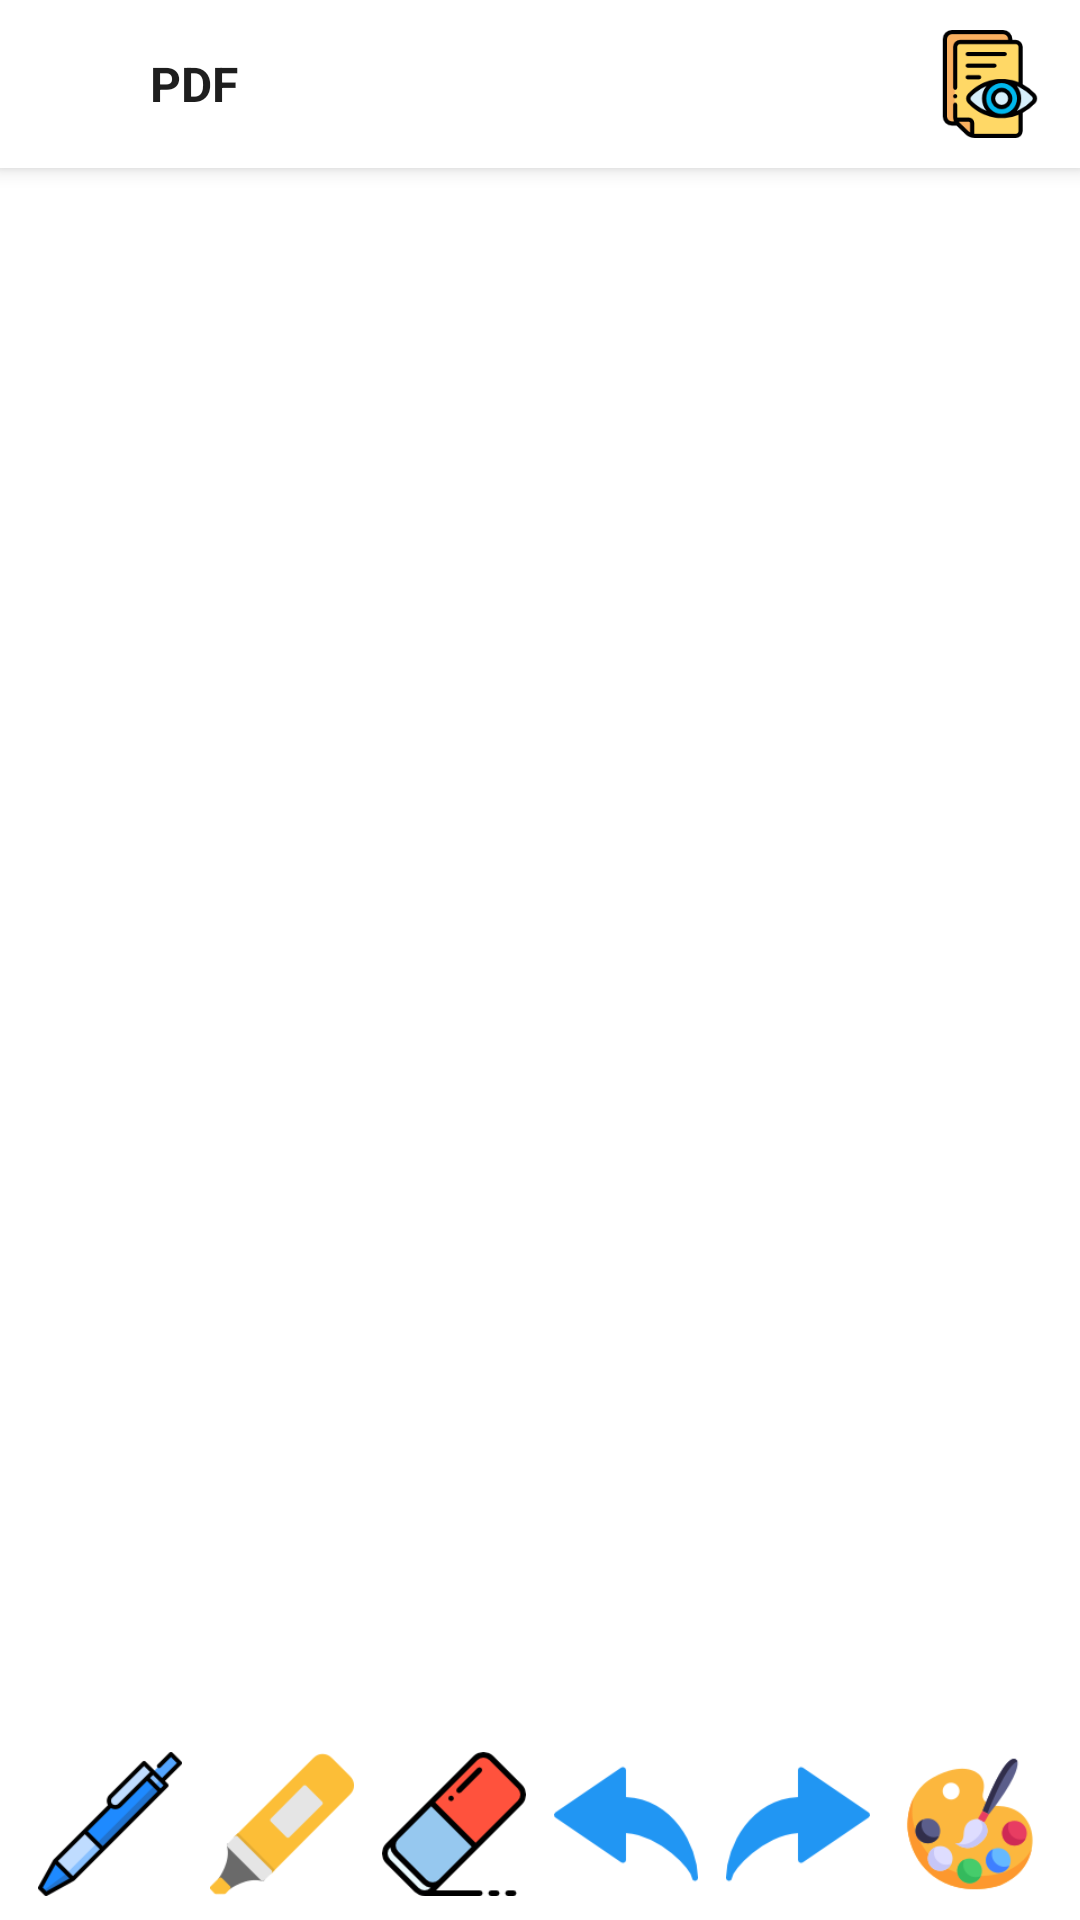

Point at icon controls on the screen. Image size 1080 × 1920, points as (x=x, y=y).
eraser: (x=454, y=1824)
marker: (x=282, y=1824)
palette: (x=970, y=1824)
pen: (x=110, y=1824)
read only: (x=990, y=84)
redo: (x=798, y=1824)
undo: (x=626, y=1824)
